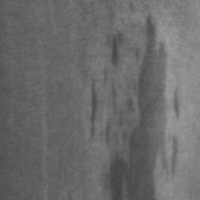inclusion: (98, 10, 182, 199), (91, 67, 135, 147), (101, 29, 127, 71)
